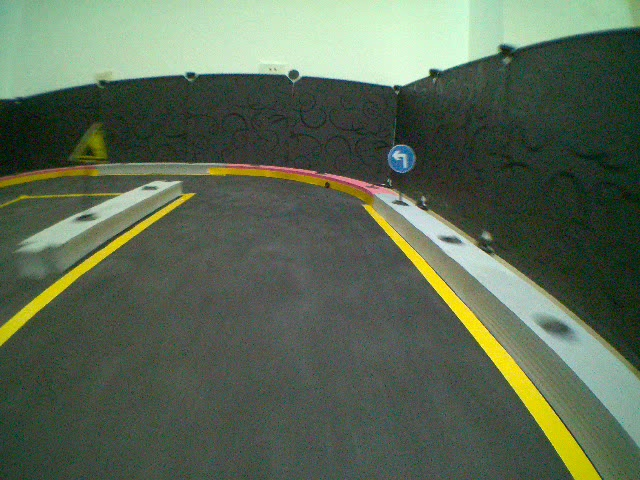fast: (67, 122, 112, 165)
turn: (387, 143, 416, 173)
